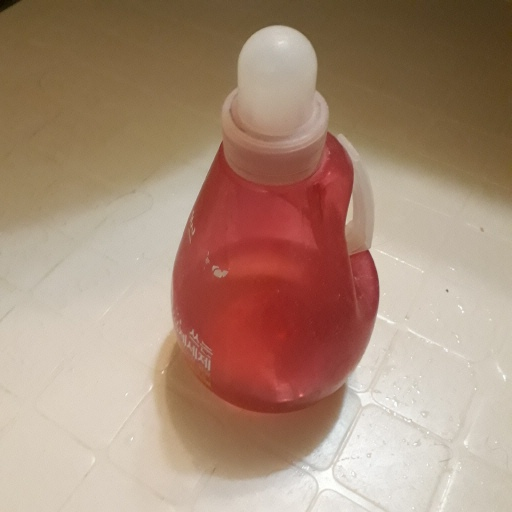Plastic_1: (167, 23, 384, 412)
